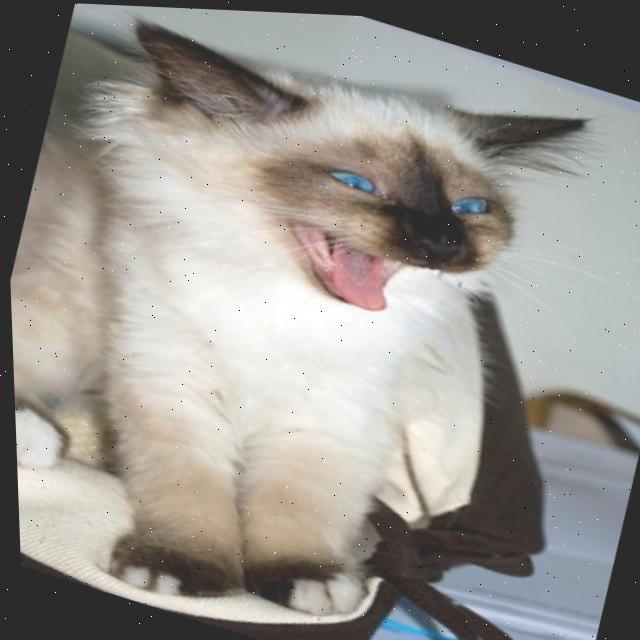Birman: (0, 0, 615, 640)
